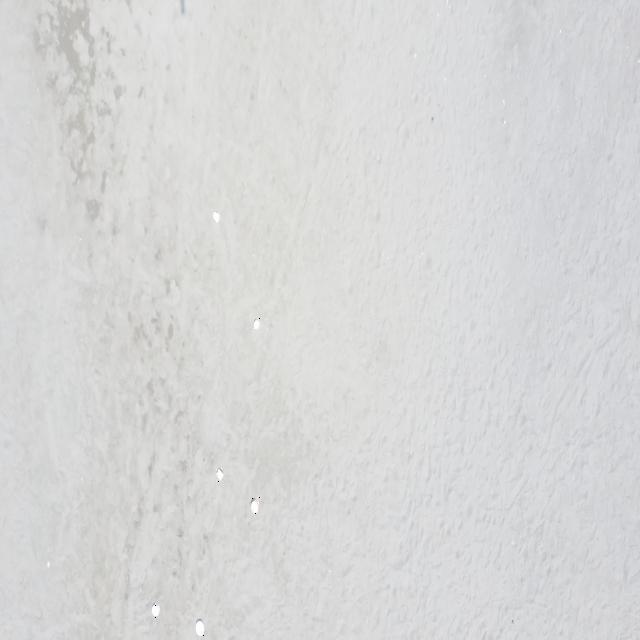take-away-containers: (250, 497, 260, 515), (195, 619, 205, 637), (214, 209, 222, 225), (152, 602, 160, 618), (216, 468, 225, 482), (253, 318, 260, 331)
